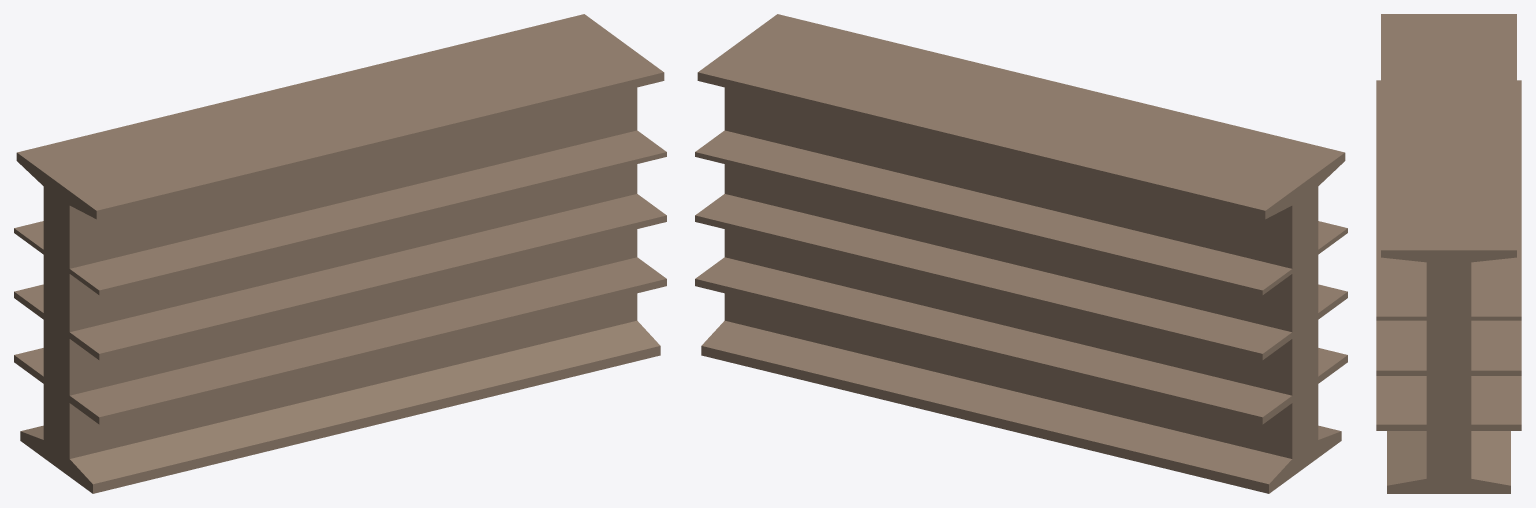
Rendered from drug store stand.fbx.
3 views of the same model, side by side, from view 1: azimuth 30°, elevation 25°; view 2: azimuth 150°, elevation 25°; view 3: azimuth 270°, elevation 25° (orthographic). The views are drawn at different scales.
Visible parts, largest first — view 1: drug store stand; view 2: drug store stand; view 3: drug store stand.
Boxes of the visible parts, box(x1,y1,x2,y2) form: drug store stand: box(14, 14, 666, 493); drug store stand: box(695, 14, 1347, 493); drug store stand: box(1376, 14, 1521, 493).
Bounding box in the file's own units: 9.03 × 4.35 × 2.35.
